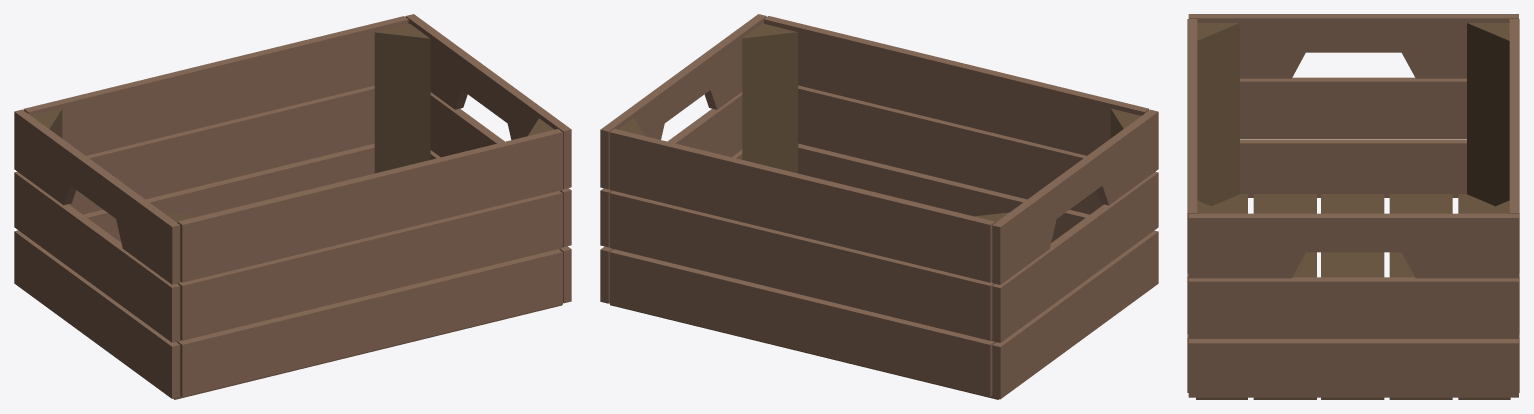
The model's file is CrateSeveralPieces.fbx.
The picture shows the model from 3 angles, left to right: view 1: azimuth 30°, elevation 25°; view 2: azimuth 150°, elevation 25°; view 3: azimuth 270°, elevation 25°; orthographic projection. The views are drawn at different scales.
Visible parts, largest first — view 1: Cube.026, Cube.025, Cube.024, Cube.029, Cube.028, Cube.034, Cube.035, Cube.033, Cube.039, Cube.027, Cube.032, Cube.031 (+3 smaller); view 2: Cube.029, Cube.028, Cube.027, Cube.026, Cube.025, Cube.034, Cube.035, Cube.033, Cube.038, Cube.024, Cube.032, Cube.031 (+3 smaller); view 3: Cube.031, Cube.030, Cube.032, Cube.034, Cube.035, Cube.033, Cube.036, Cube.037, Cube.042, Cube.026, Cube.029, Cube.040 (+3 smaller).
Part boxes in pixels (left/top/right/bottom): Cube.026: left=177, top=129, right=562, bottom=282; Cube.025: left=177, top=191, right=562, bottom=340; Cube.024: left=177, top=249, right=562, bottom=396; Cube.029: left=23, top=16, right=408, bottom=155; Cube.028: left=69, top=85, right=374, bottom=214; Cube.034: left=14, top=171, right=180, bottom=342; Cube.035: left=14, top=109, right=180, bottom=284; Cube.033: left=14, top=230, right=180, bottom=398; Cube.039: left=374, top=24, right=430, bottom=173; Cube.027: left=83, top=143, right=374, bottom=242; Cube.032: left=405, top=14, right=571, bottom=189; Cube.031: left=430, top=92, right=571, bottom=246; Cube.029: left=609, top=128, right=995, bottom=282; Cube.028: left=609, top=191, right=994, bottom=340; Cube.027: left=609, top=249, right=995, bottom=396; Cube.026: left=764, top=16, right=1149, bottom=155; Cube.025: left=798, top=85, right=1103, bottom=214; Cube.034: left=992, top=171, right=1158, bottom=342; Cube.035: left=992, top=109, right=1158, bottom=284; Cube.033: left=992, top=230, right=1158, bottom=399; Cube.038: left=742, top=23, right=798, bottom=173; Cube.024: left=798, top=143, right=1089, bottom=242; Cube.032: left=600, top=14, right=766, bottom=189; Cube.031: left=600, top=92, right=742, bottom=247; Cube.031: left=1188, top=277, right=1518, bottom=338; Cube.030: left=1188, top=339, right=1518, bottom=397; Cube.032: left=1188, top=213, right=1518, bottom=278; Cube.034: left=1240, top=77, right=1466, bottom=138; Cube.035: left=1188, top=14, right=1518, bottom=78; Cube.033: left=1240, top=139, right=1466, bottom=197; Cube.036: left=1467, top=23, right=1509, bottom=206; Cube.037: left=1197, top=23, right=1239, bottom=206; Cube.042: left=1321, top=194, right=1384, bottom=399; Cube.026: left=1187, top=19, right=1197, bottom=273; Cube.029: left=1509, top=19, right=1519, bottom=273; Cube.040: left=1389, top=194, right=1452, bottom=399.
Size of the model in its own units: 195 by 82.69 by 134.
